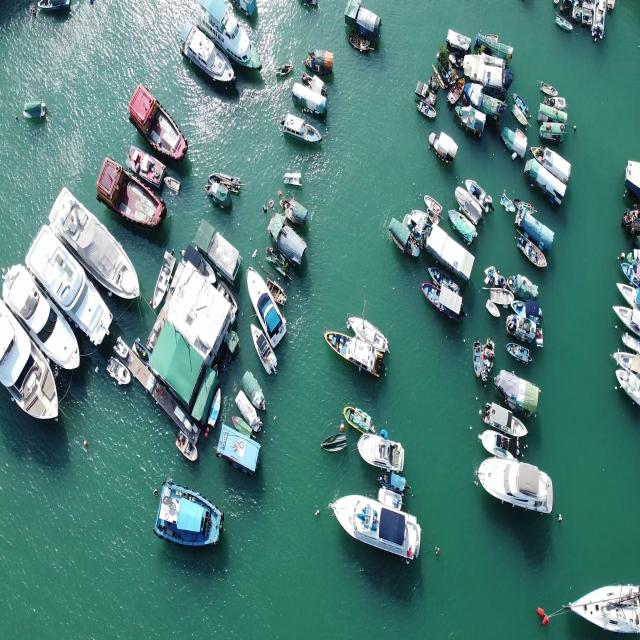ship: (19, 221, 113, 351), (45, 187, 142, 300), (0, 263, 80, 373), (0, 304, 63, 422), (328, 492, 426, 562), (94, 150, 168, 236), (475, 457, 568, 519), (132, 78, 190, 158), (202, 3, 264, 76), (161, 478, 221, 548), (179, 17, 235, 89), (568, 585, 636, 631), (246, 268, 286, 344), (472, 403, 530, 440), (355, 436, 409, 468), (447, 205, 482, 252), (282, 111, 322, 148), (504, 337, 542, 372), (425, 130, 458, 170), (517, 233, 547, 276), (169, 432, 199, 467), (338, 404, 370, 434), (209, 180, 234, 214), (102, 357, 128, 388), (377, 481, 408, 507), (320, 429, 352, 451), (428, 190, 442, 220), (484, 295, 500, 321), (22, 100, 48, 114), (539, 123, 567, 136), (273, 57, 295, 71), (284, 171, 302, 185)
